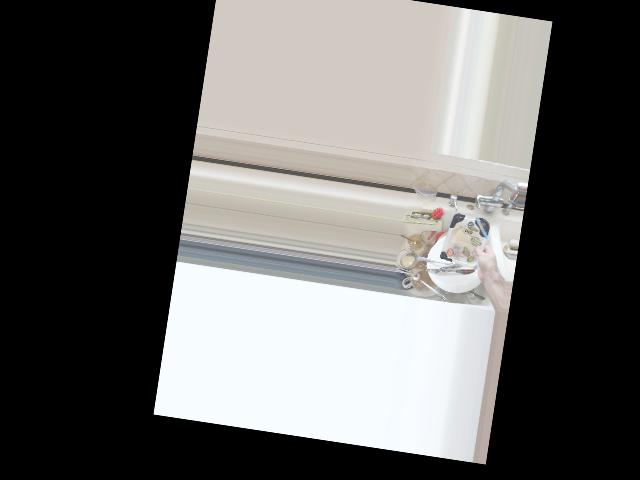cheese: (439, 208, 504, 280)
